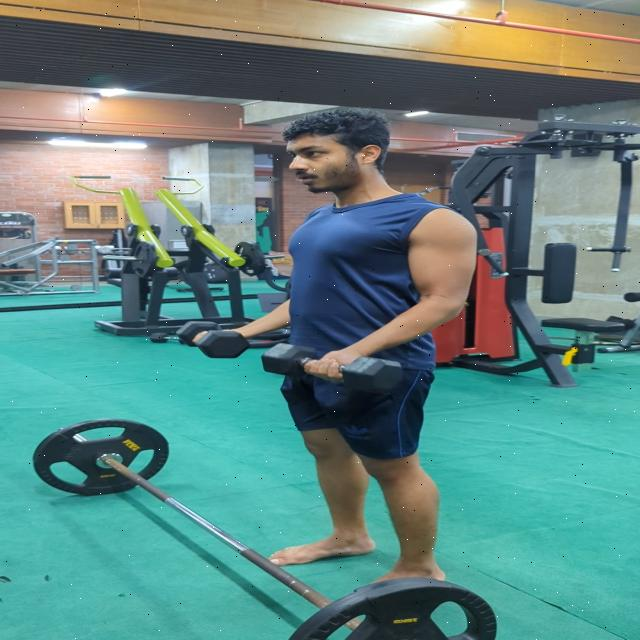Normal_DumbbellBicepCurls: (187, 105, 483, 586)
